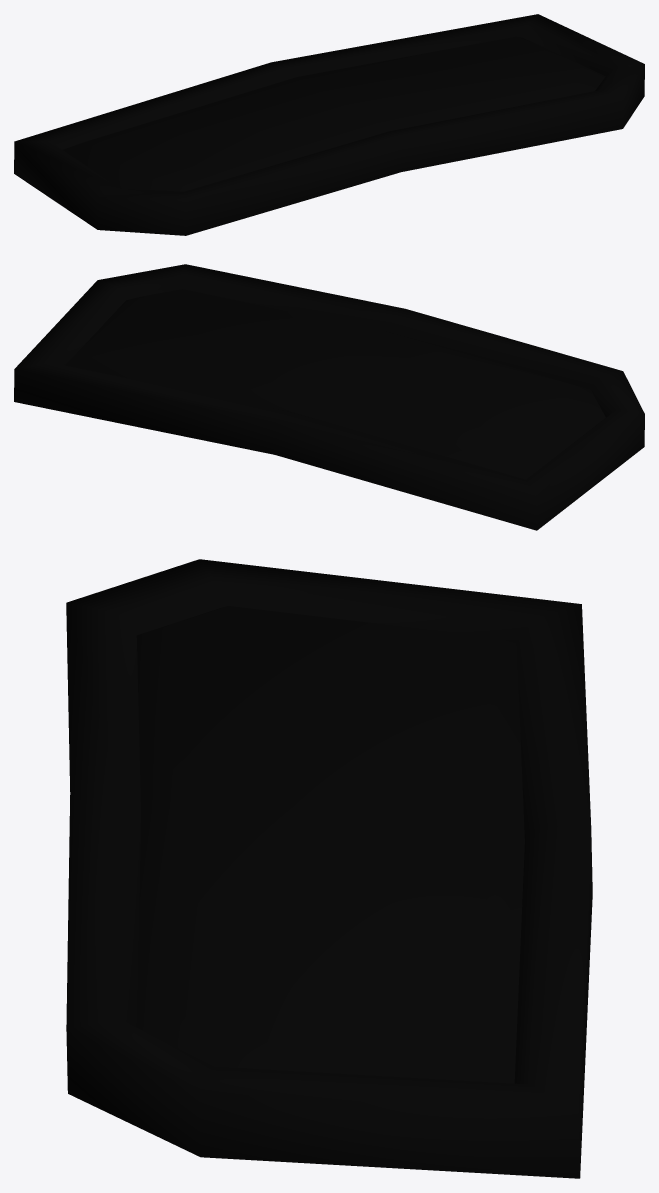
Rendered from Seat_ULTIMATE_TABDOWN_1K.glb.
3 renders of one model, top to bottom at view 1: azimuth 30°, elevation 25°; view 2: azimuth 150°, elevation 25°; view 3: azimuth 270°, elevation 25°, orthographic. The views are drawn at different scales.
Visible parts, largest first — view 1: Seat_ULTIMATE_TABDOWN_1K; view 2: Seat_ULTIMATE_TABDOWN_1K; view 3: Seat_ULTIMATE_TABDOWN_1K.
Boxes of the visible parts, box(x1,y1,x2,y2) form: Seat_ULTIMATE_TABDOWN_1K: box(14, 14, 644, 235); Seat_ULTIMATE_TABDOWN_1K: box(14, 264, 644, 530); Seat_ULTIMATE_TABDOWN_1K: box(66, 559, 592, 1178).
Size of the model in its own units: 0.0406 by 0.00458 by 0.0169.
1 material, 1 textured.
